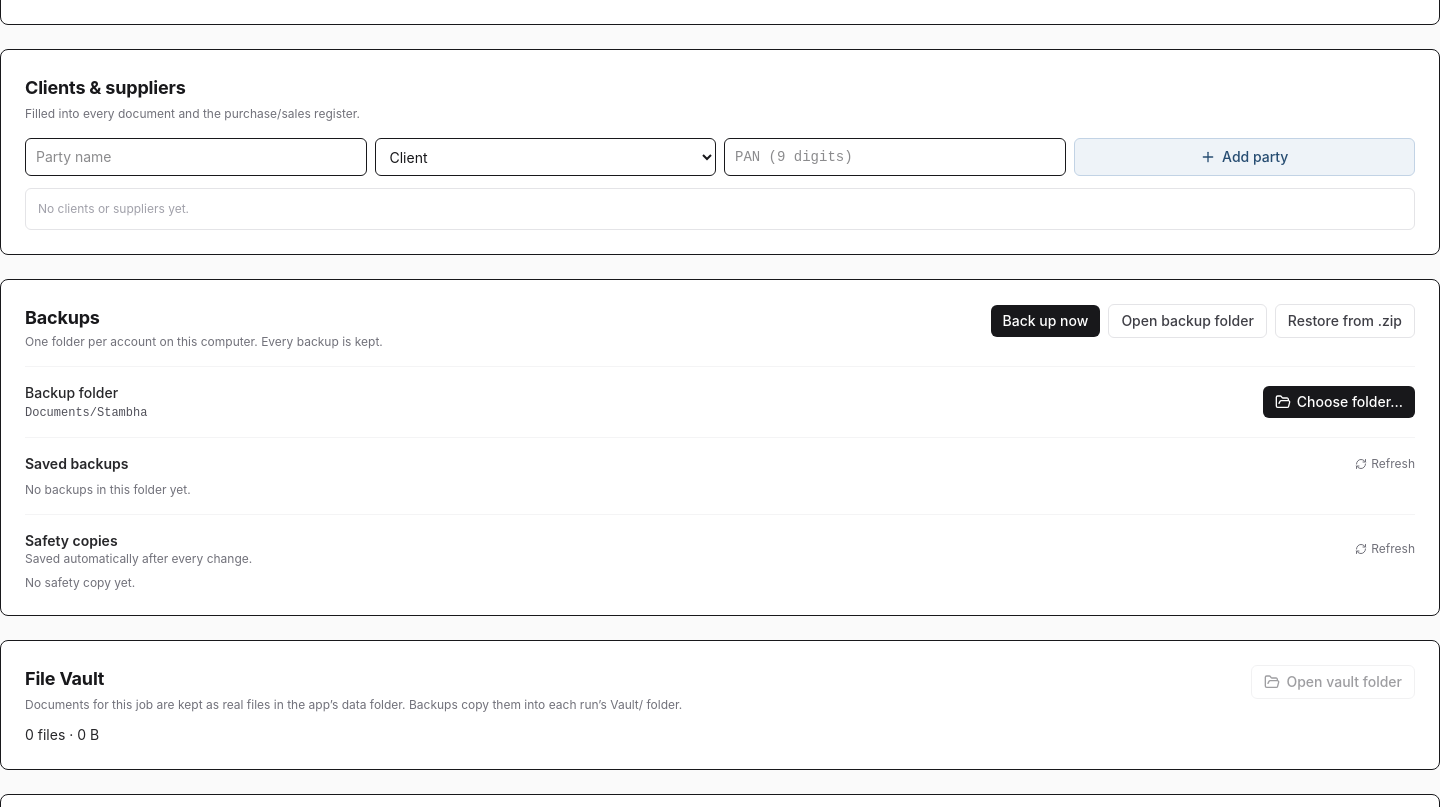
it: backup folder setting › saves the folder chosen with the native picker and shows it as current
(page scrolled)
Click the button with test id "backup-location-choose" at (1339, 402), box left=1263, top=386, right=1415, bottom=418
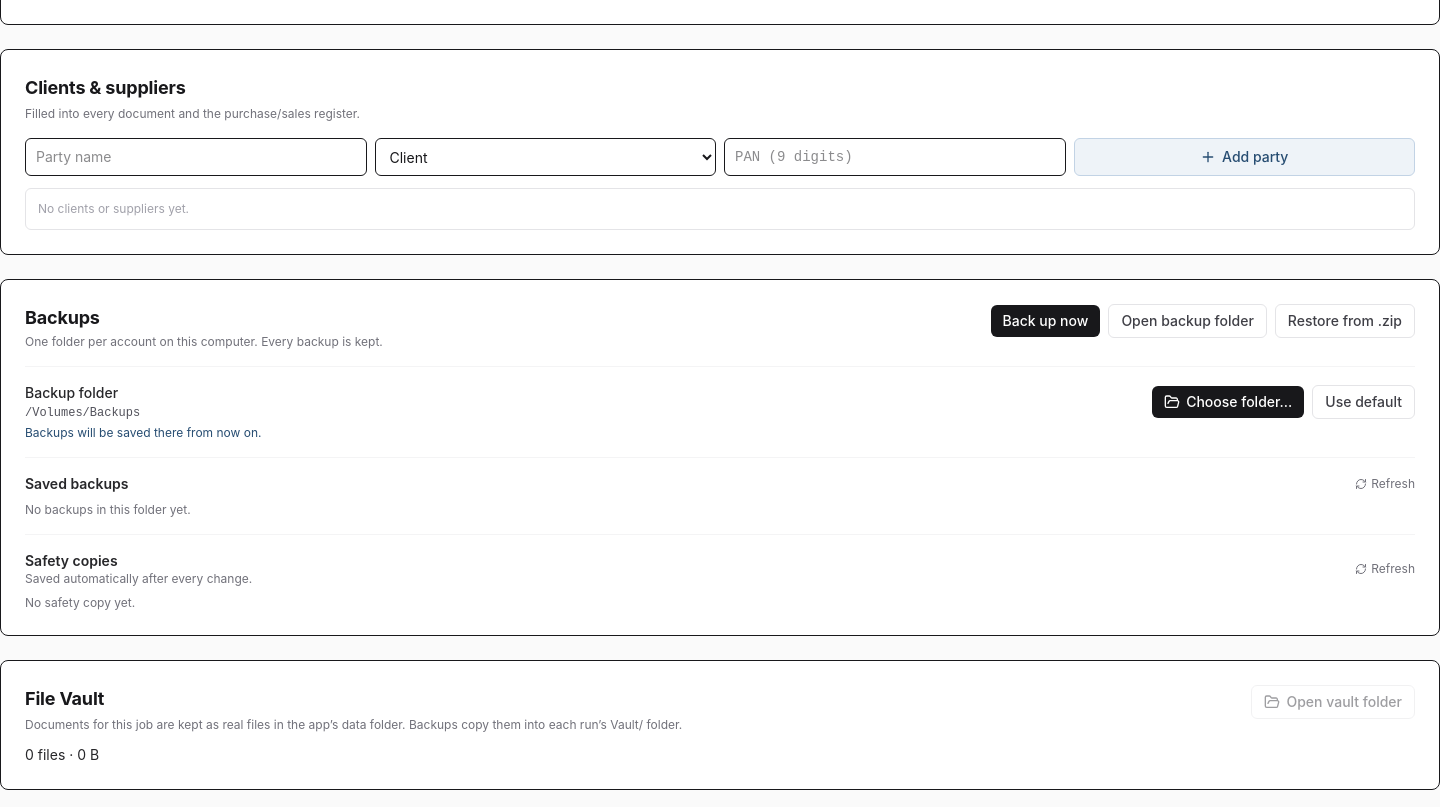
Check: the text "/Volumes/Backups" is shown, box left=25, top=405, right=140, bottom=421
Check: the text with test id "backup-location-current" reads "/Volumes/Backups", box left=25, top=406, right=140, bottom=420
Check: the text with test id "backup-location-msg" shows "saved there", box left=25, top=425, right=262, bottom=440
